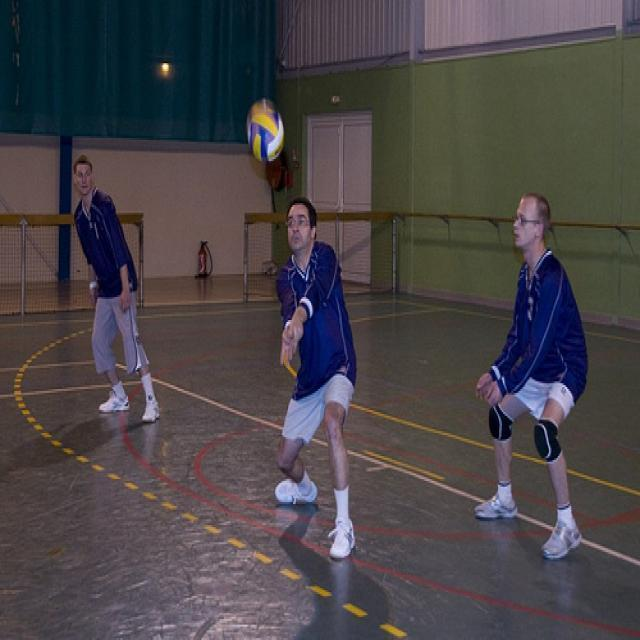volleyball: (246, 100, 285, 160)
